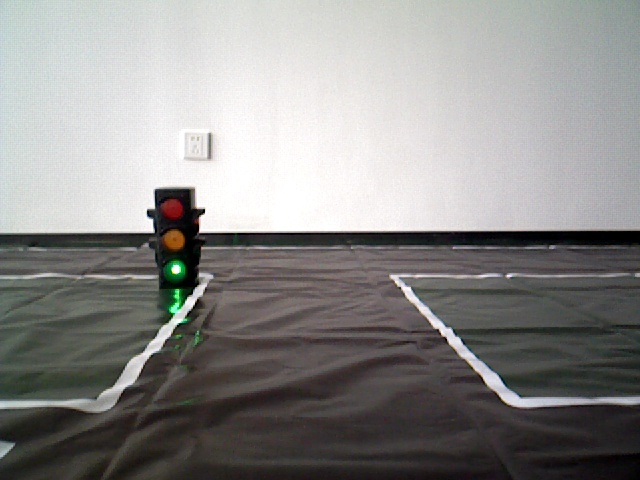green: (158, 193, 194, 280)
